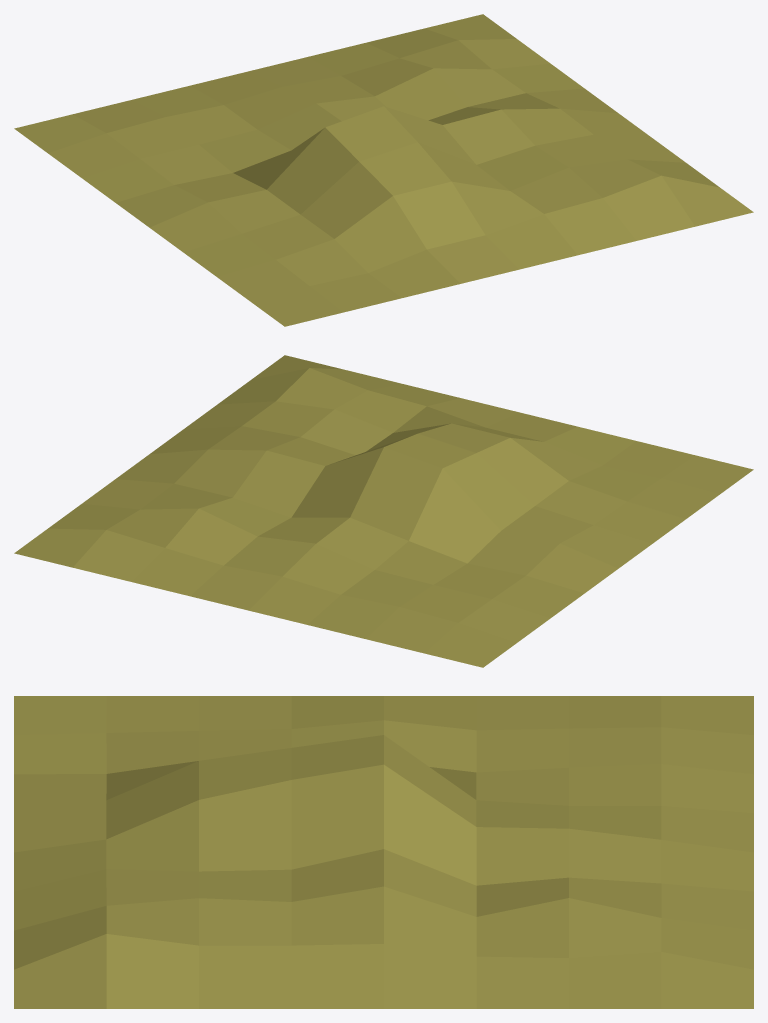
The model's file is Terrain_4_Yellow.fbx.
The picture shows the model from 3 angles, top to bottom: view 1: azimuth 30°, elevation 25°; view 2: azimuth 150°, elevation 25°; view 3: azimuth 270°, elevation 25°; orthographic projection. The views are drawn at different scales.
Parts seen in each view (by area): view 1: Terrain_4_Yellow; view 2: Terrain_4_Yellow; view 3: Terrain_4_Yellow.
Boxes of the visible parts, left/top/right/bottom form: Terrain_4_Yellow: left=14, top=14, right=753, bottom=326; Terrain_4_Yellow: left=14, top=355, right=753, bottom=667; Terrain_4_Yellow: left=14, top=696, right=753, bottom=1008.
Size of the model in its own units: 3000 by 393 by 3000.
